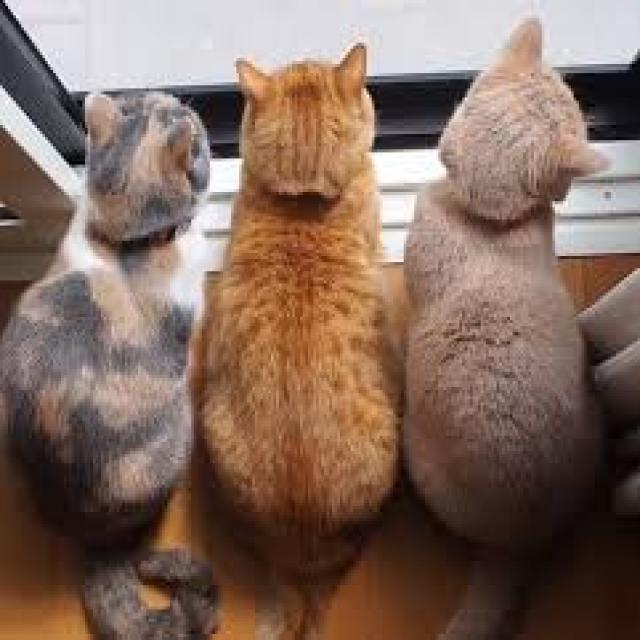cat: (396, 0, 613, 616), (0, 87, 232, 565), (226, 42, 375, 612)
